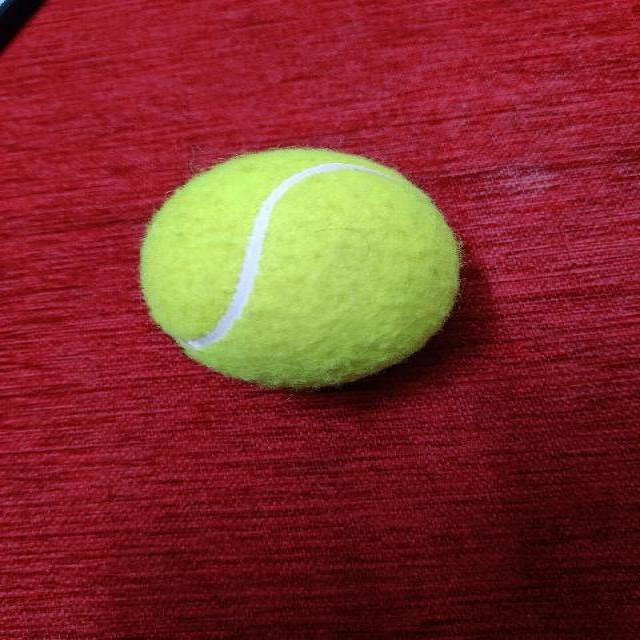tennis-ball: (138, 147, 460, 389)
